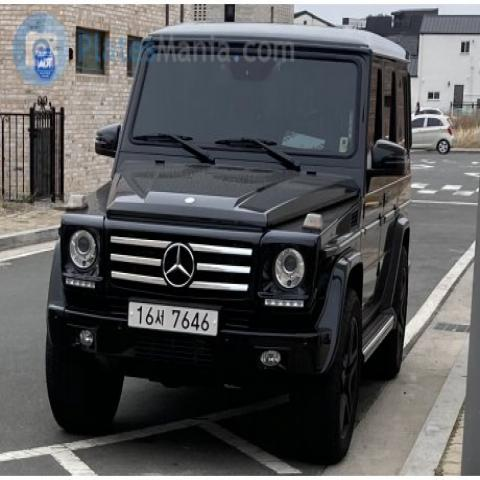LP: (118, 286, 227, 351)
